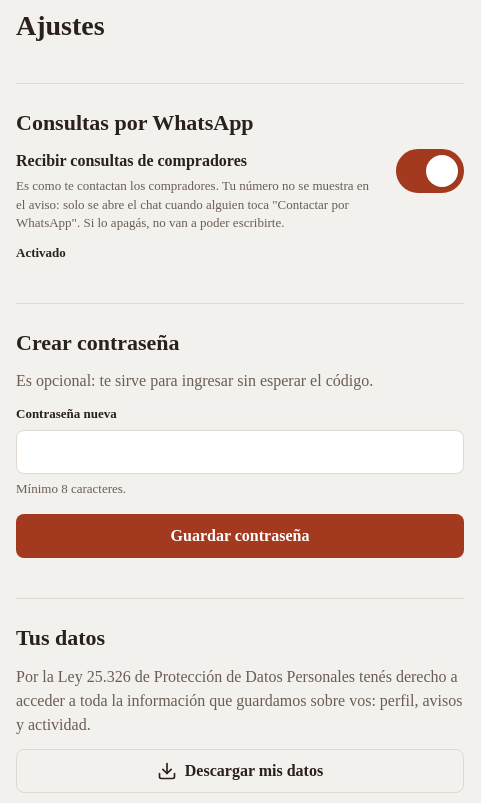
Scenario: /ajustes › apaga las consultas por WhatsApp
The image size is (481, 803).
Click the switch named "Recibir consultas de compradores": (430, 171) left=396, top=149, right=464, bottom=193
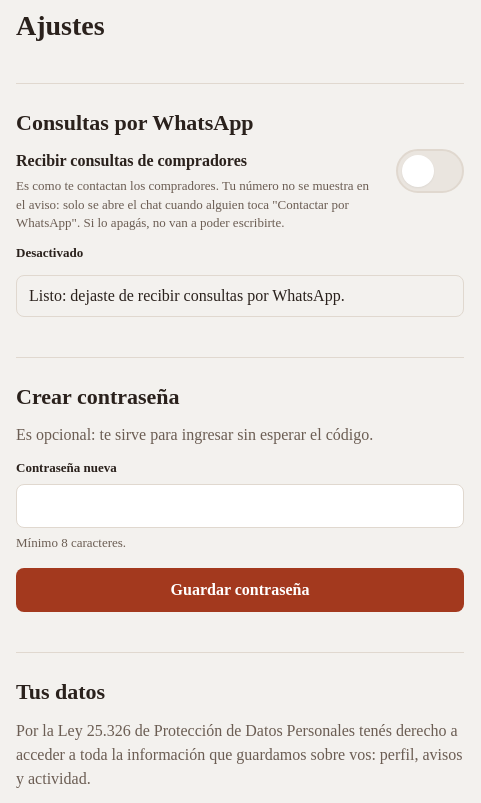
Expected: the text "Listo: dejaste de recibir consultas por WhatsApp." is shown, left=16, top=275, right=464, bottom=317
